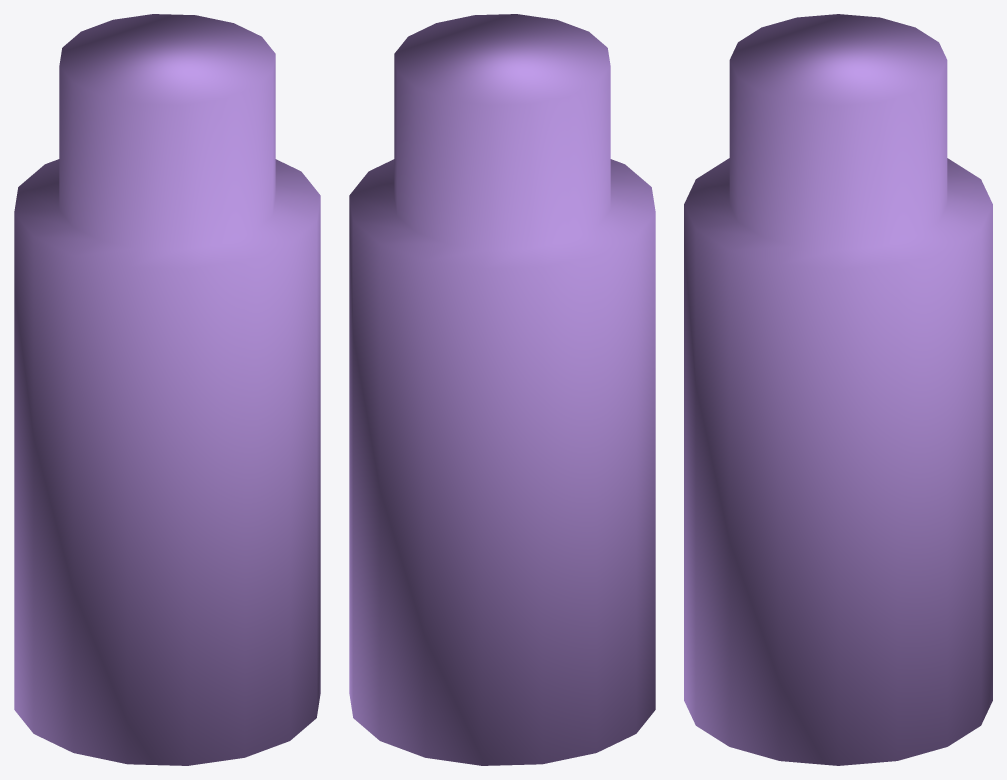
Rendered from WashGunFuel.glb.
3 views of the same model, side by side, from view 1: azimuth 30°, elevation 25°; view 2: azimuth 150°, elevation 25°; view 3: azimuth 270°, elevation 25° (orthographic).
Parts seen in each view (by area): view 1: Cylinder; view 2: Cylinder; view 3: Cylinder.
Boxes of the visible parts, box(x1,y1,x2,y2) form: Cylinder: box(14, 14, 320, 765); Cylinder: box(349, 14, 655, 765); Cylinder: box(684, 14, 992, 765).
Size of the model in its own units: 1.13 by 2.58 by 1.13.
